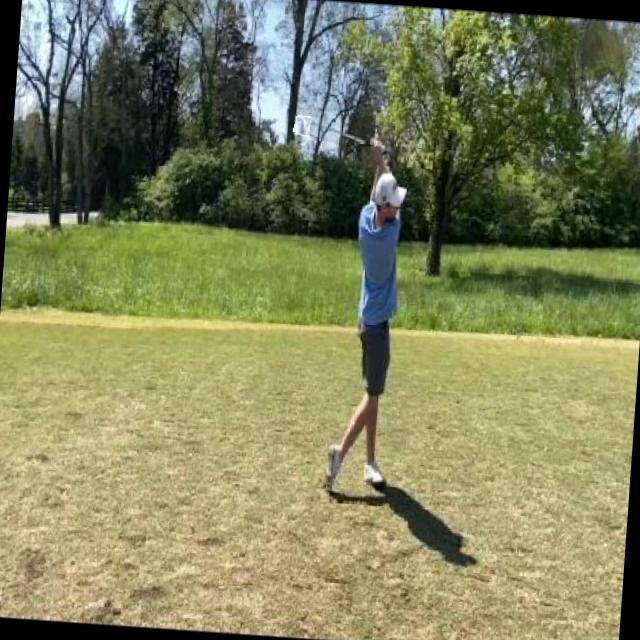club head: (294, 115, 310, 136)
